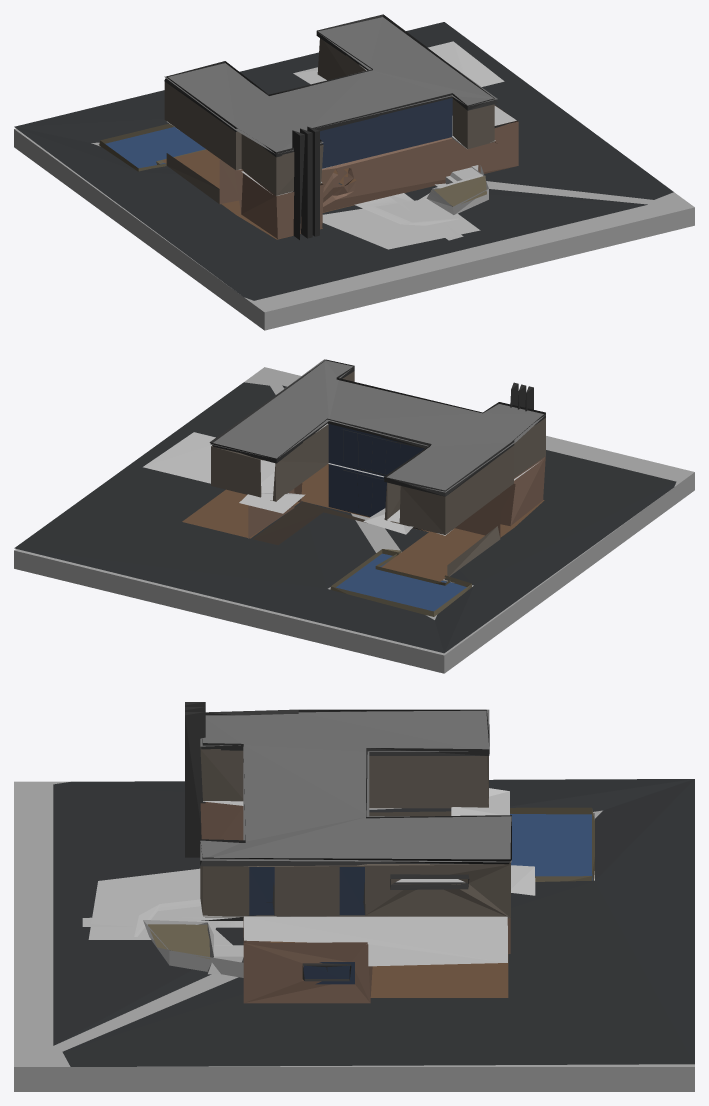
The model's file is pool-villa.lod2.glb.
3 renders of one model, top to bottom at view 1: azimuth 30°, elevation 25°; view 2: azimuth 150°, elevation 25°; view 3: azimuth 270°, elevation 25°, orthographic. The views are drawn at different scales.
Visible parts, largest first — view 1: Box001_Material #8_0; view 2: Box001_Material #8_0; view 3: Box001_Material #8_0.
Boxes of the visible parts, left/top/right/bottom form: Box001_Material #8_0: left=14, top=14, right=694, bottom=330; Box001_Material #8_0: left=14, top=359, right=694, bottom=673; Box001_Material #8_0: left=14, top=702, right=694, bottom=1091.
Size of the model in its own units: 34.7 by 9.62 by 35.
